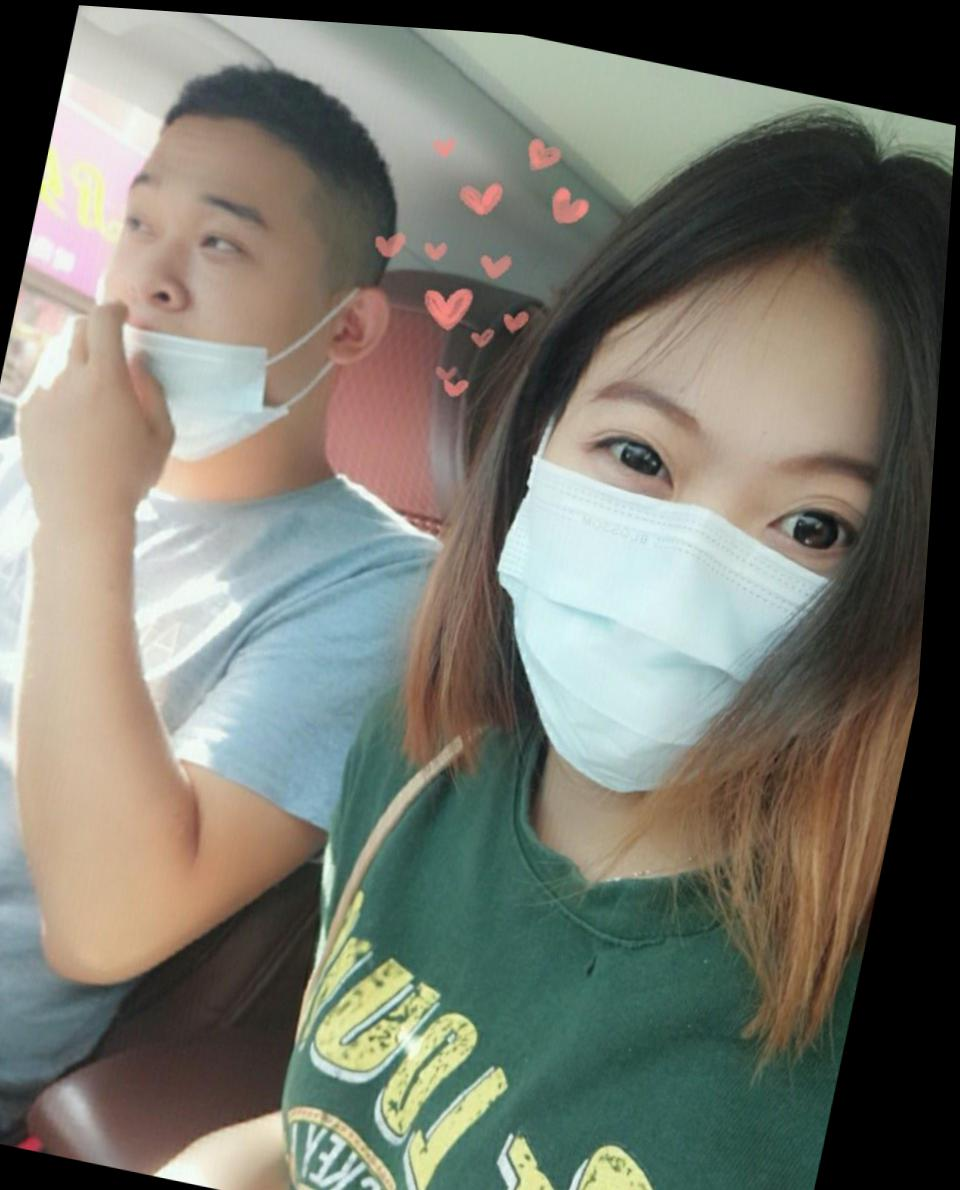OK: (462, 353, 923, 814)
WRONG: (81, 163, 374, 475)
